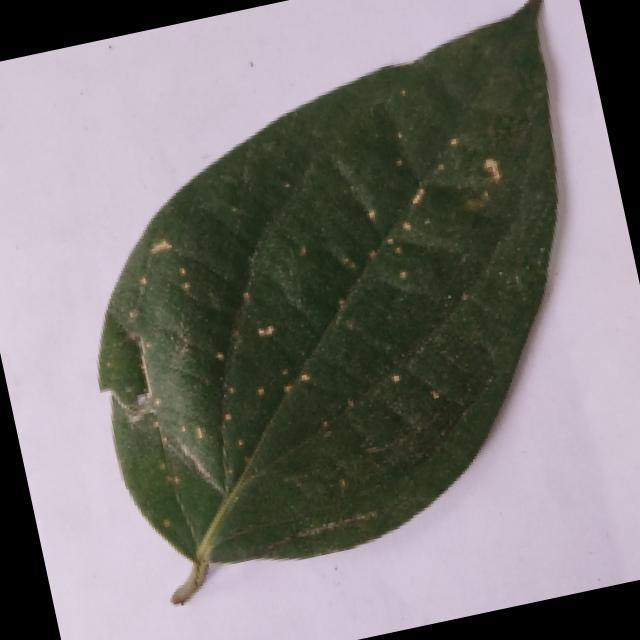pollu-disease: (33, 1, 640, 616)
